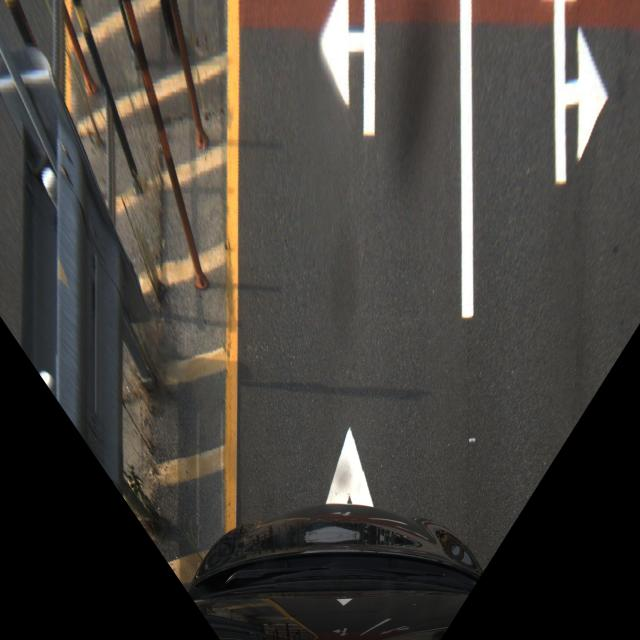forward_left: (229, 0, 472, 140)
